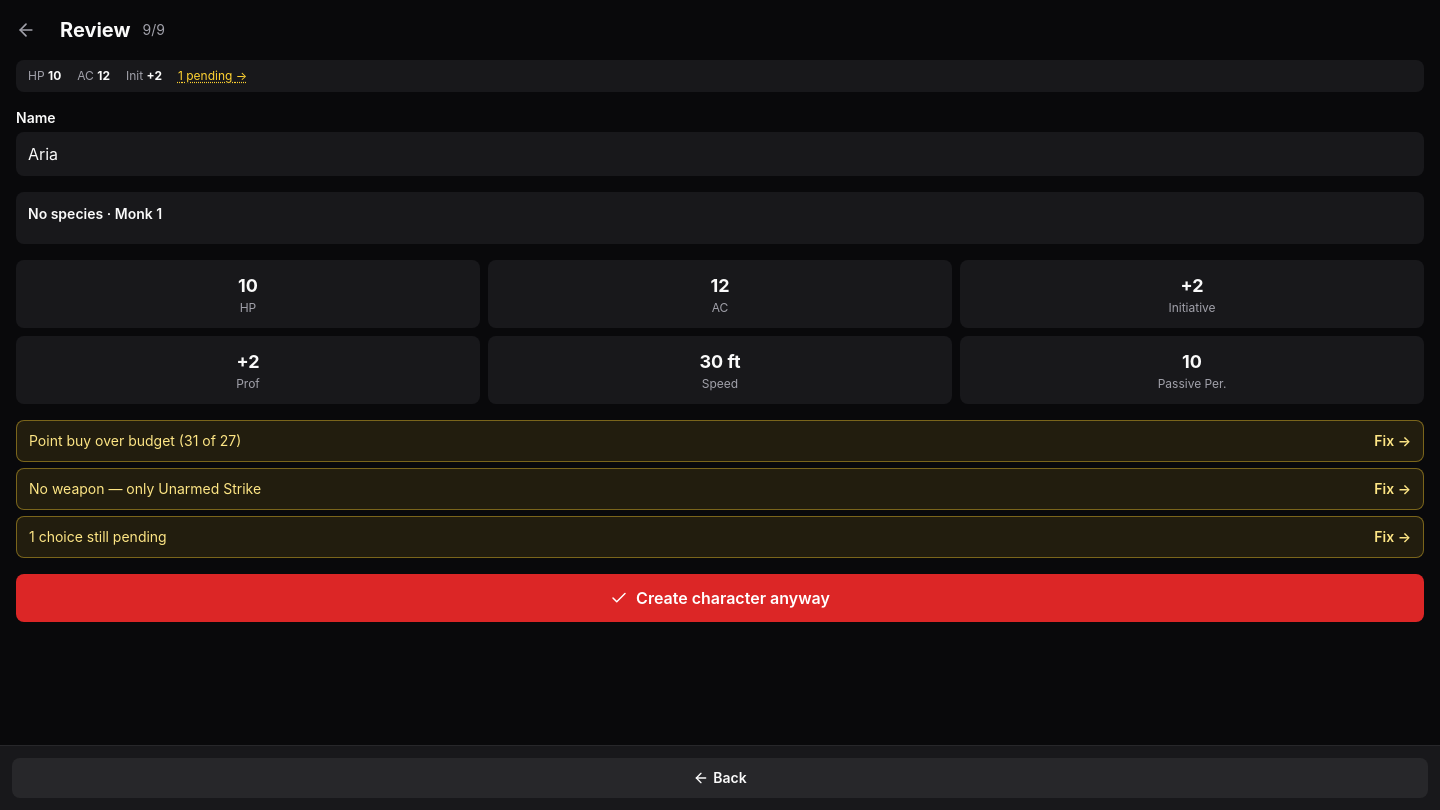
Test: changes that take something away › the abilities step › point buy › lists an over-budget spread on Review, one tap from its fix
Click the button "Point buy over budget (31 of 27) Fix →" at (135, 440), box [16,420,1424,462]
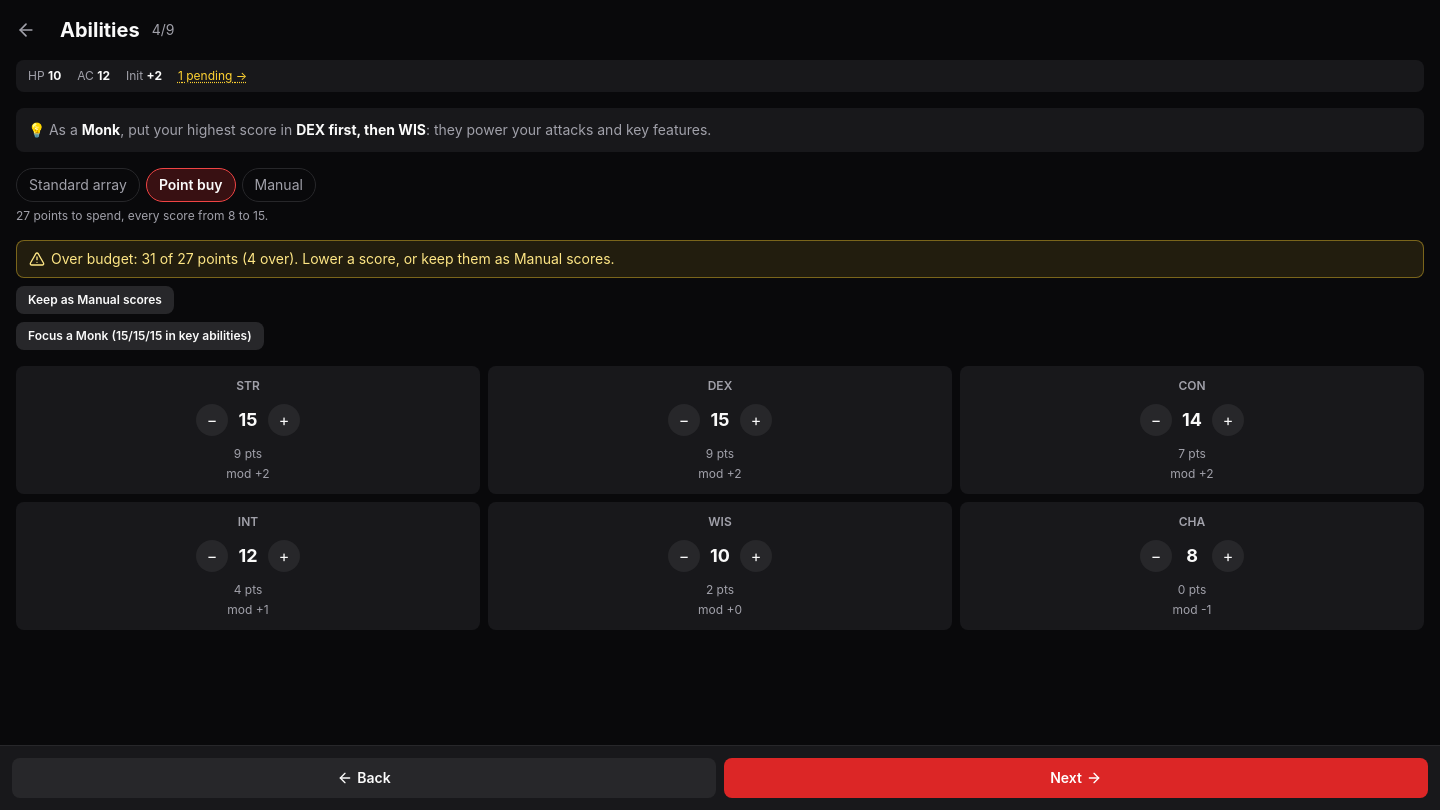
Check: the heading "Abilities" is shown, box [60,16,140,44]
